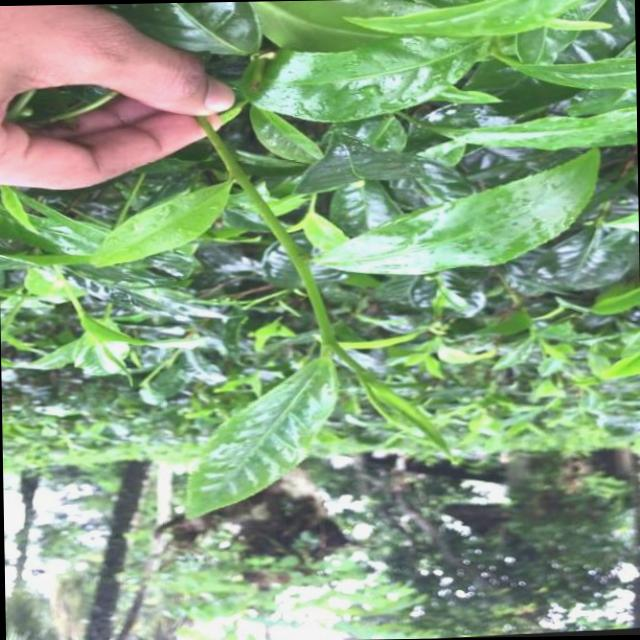Stem: (320, 329, 336, 344)
